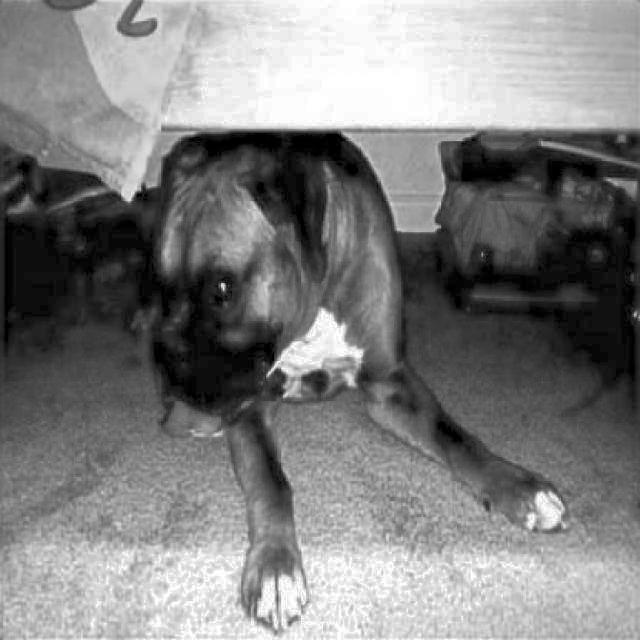Person: (141, 107, 570, 640)
